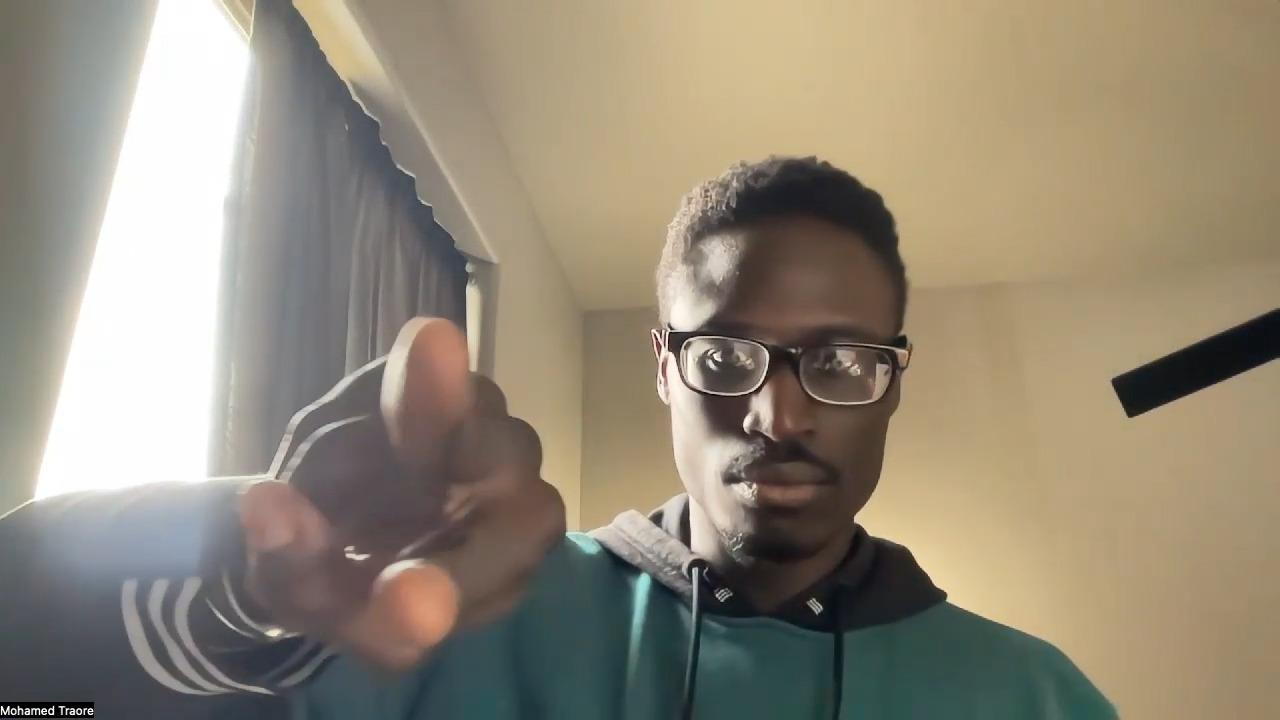Scissors: (257, 313, 568, 676)
